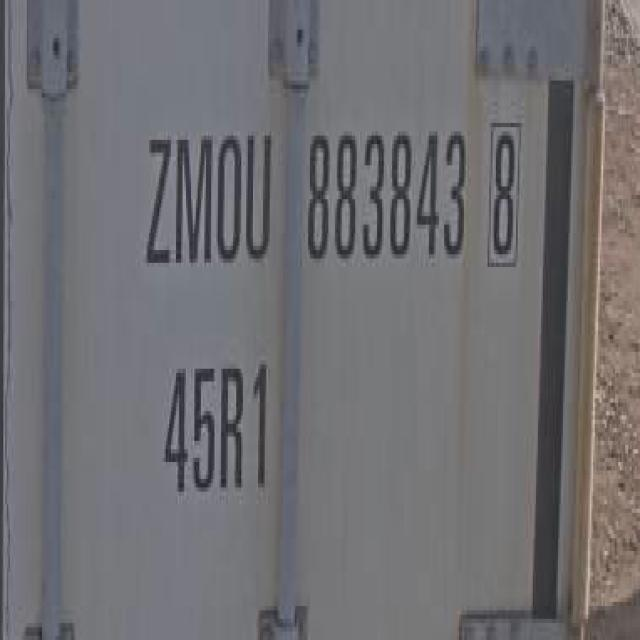dv: (477, 106, 531, 291)
owner: (133, 98, 281, 299)
serial: (298, 107, 469, 284)
size: (149, 337, 286, 531)
